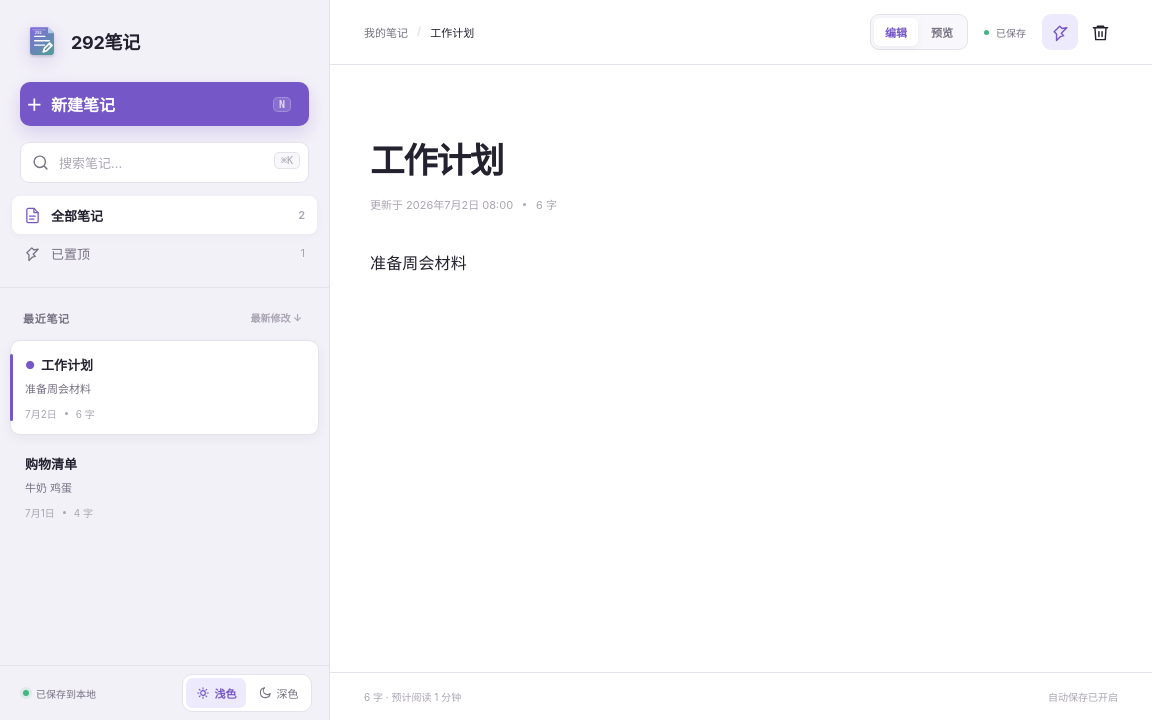
Test: App › creates a note and autosaves edits
Expected: the field showing "工作计划" is shown, [370,139,1112,182]
Click the button "＋ 新建笔记 N" at (83, 105), box [20,82,309,126]
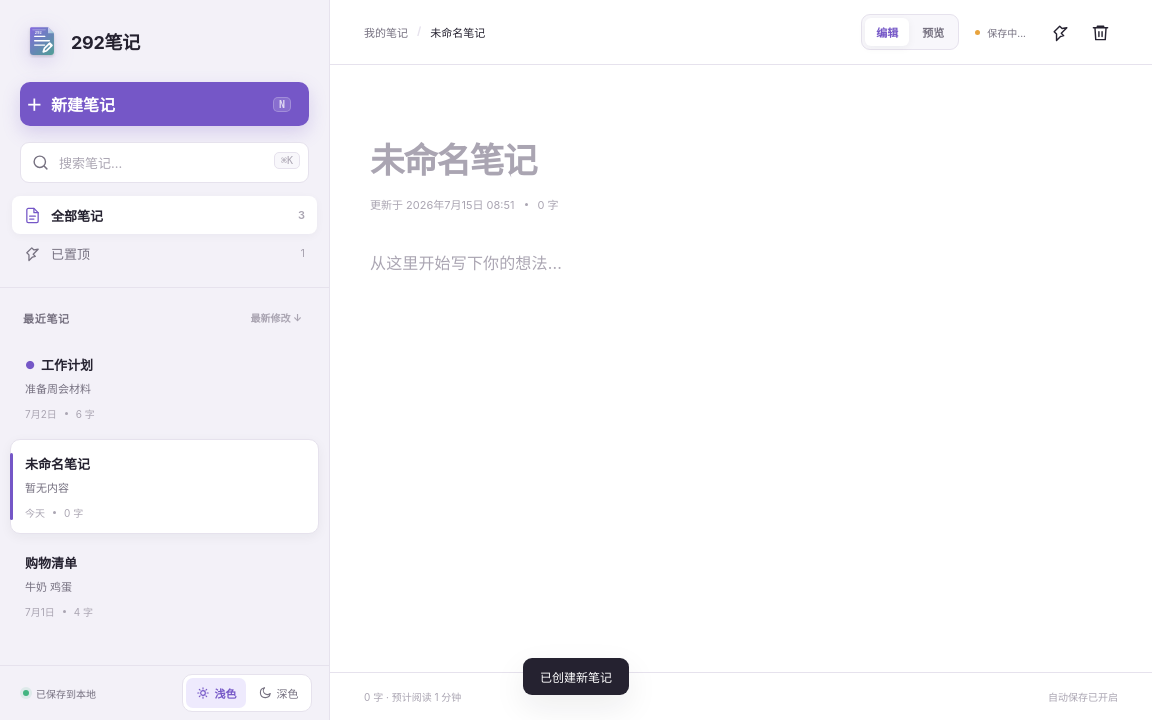
Type "桌面想法" into the field named "笔记标题" at (741, 161), box [370,139,1112,182]
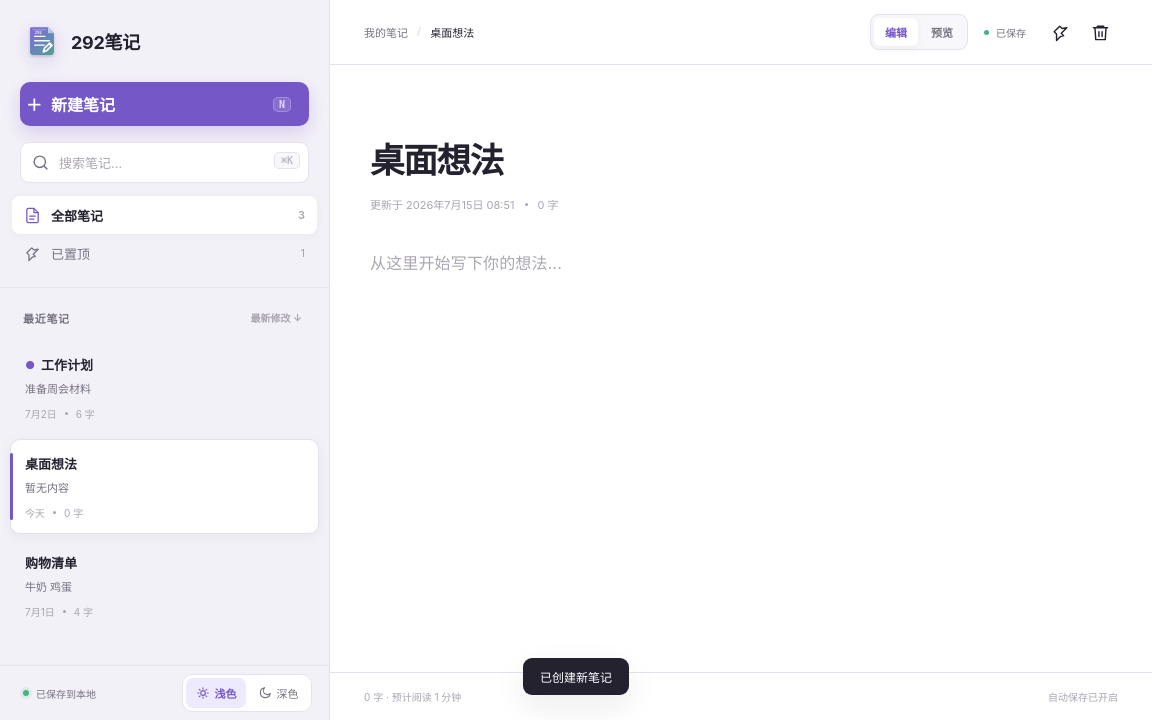
Expected: the text "桌面想法" below "最近笔记" is shown, [25,456,77,472]
